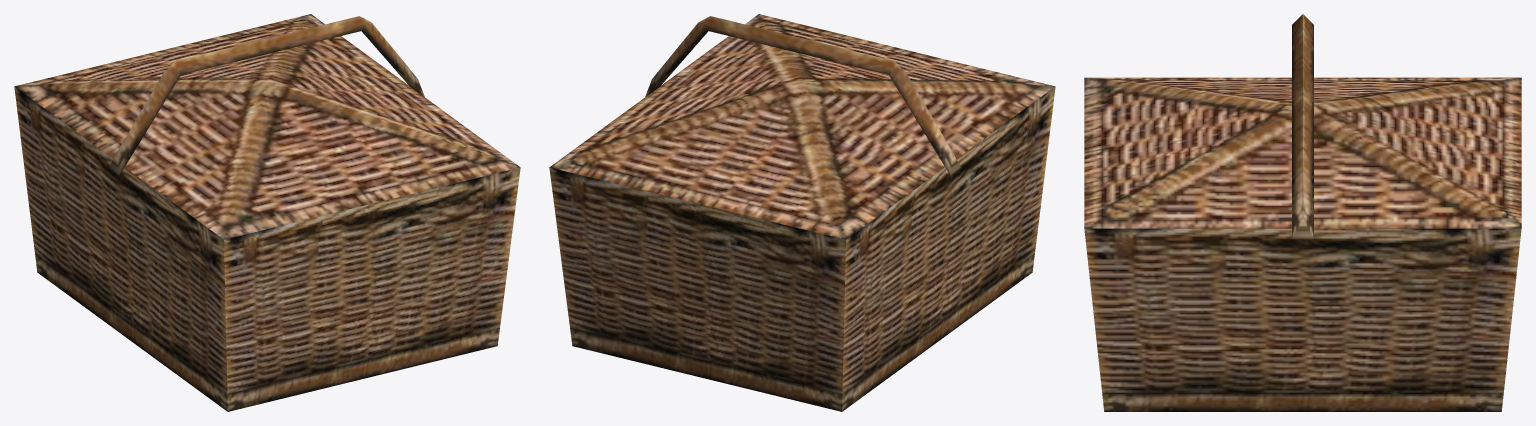
The model's file is Basket2.glb.
The picture shows the model from 3 angles, left to right: view 1: azimuth 30°, elevation 25°; view 2: azimuth 150°, elevation 25°; view 3: azimuth 270°, elevation 25°; orthographic projection. The views are drawn at different scales.
Visible parts, largest first — view 1: Basket2; view 2: Basket2; view 3: Basket2.
Boxes of the visible parts, <box> form: Basket2: <box>14,14,520,411</box>; Basket2: <box>549,14,1055,411</box>; Basket2: <box>1084,14,1521,411</box>.
Size of the model in its own units: 0.8082 by 0.681 by 0.9553.
1 material, 1 textured.
